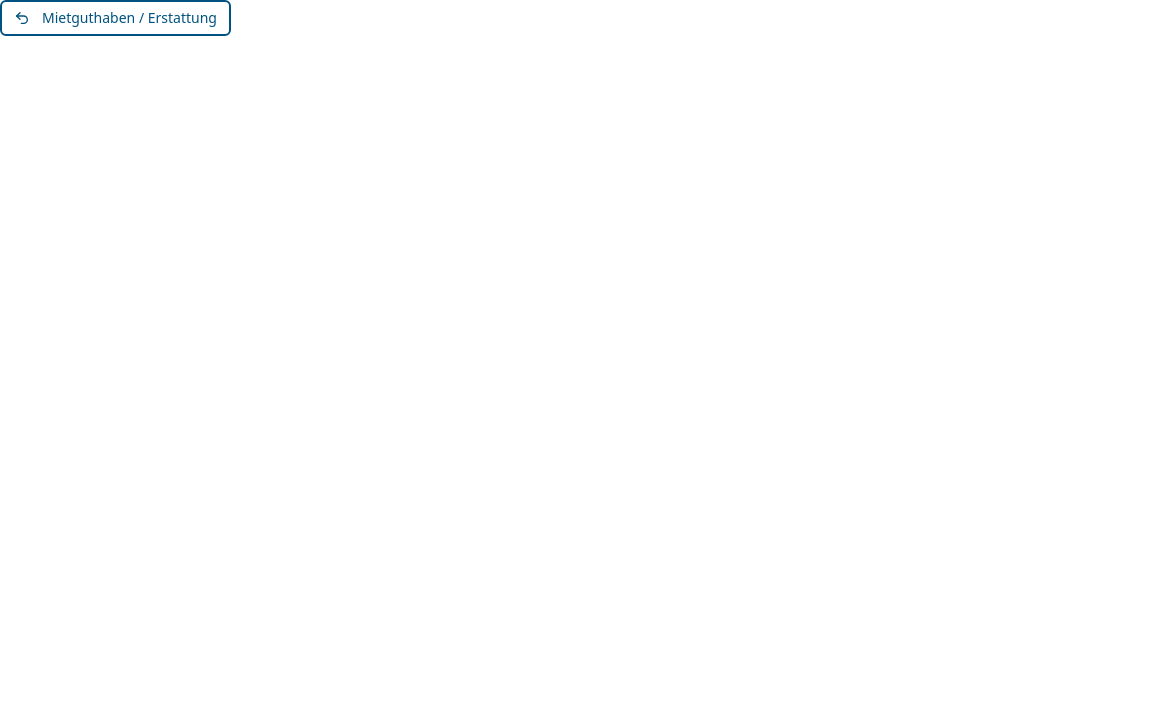
Test: rental credit information › shows zero credit without offering a payout
Click the button "Mietguthaben / Erstattung". click: (115, 18)
box: 0,0 -> 231,36
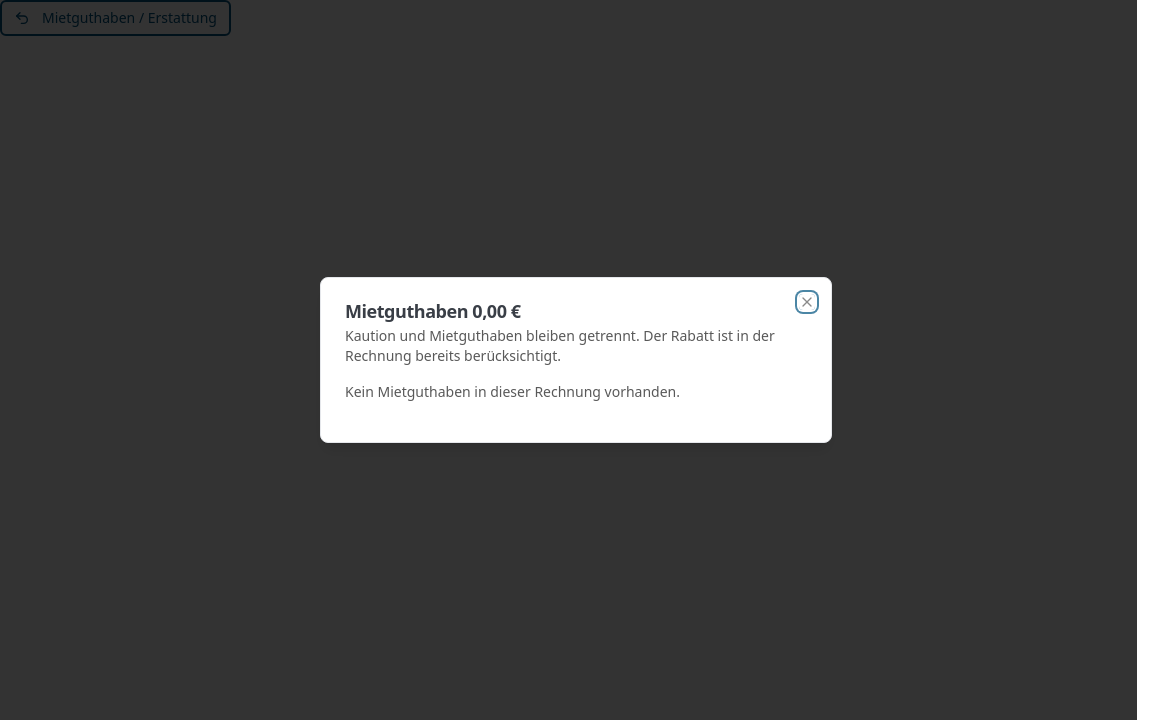
Expected: the dialog is shown, 320,277 -> 832,443
